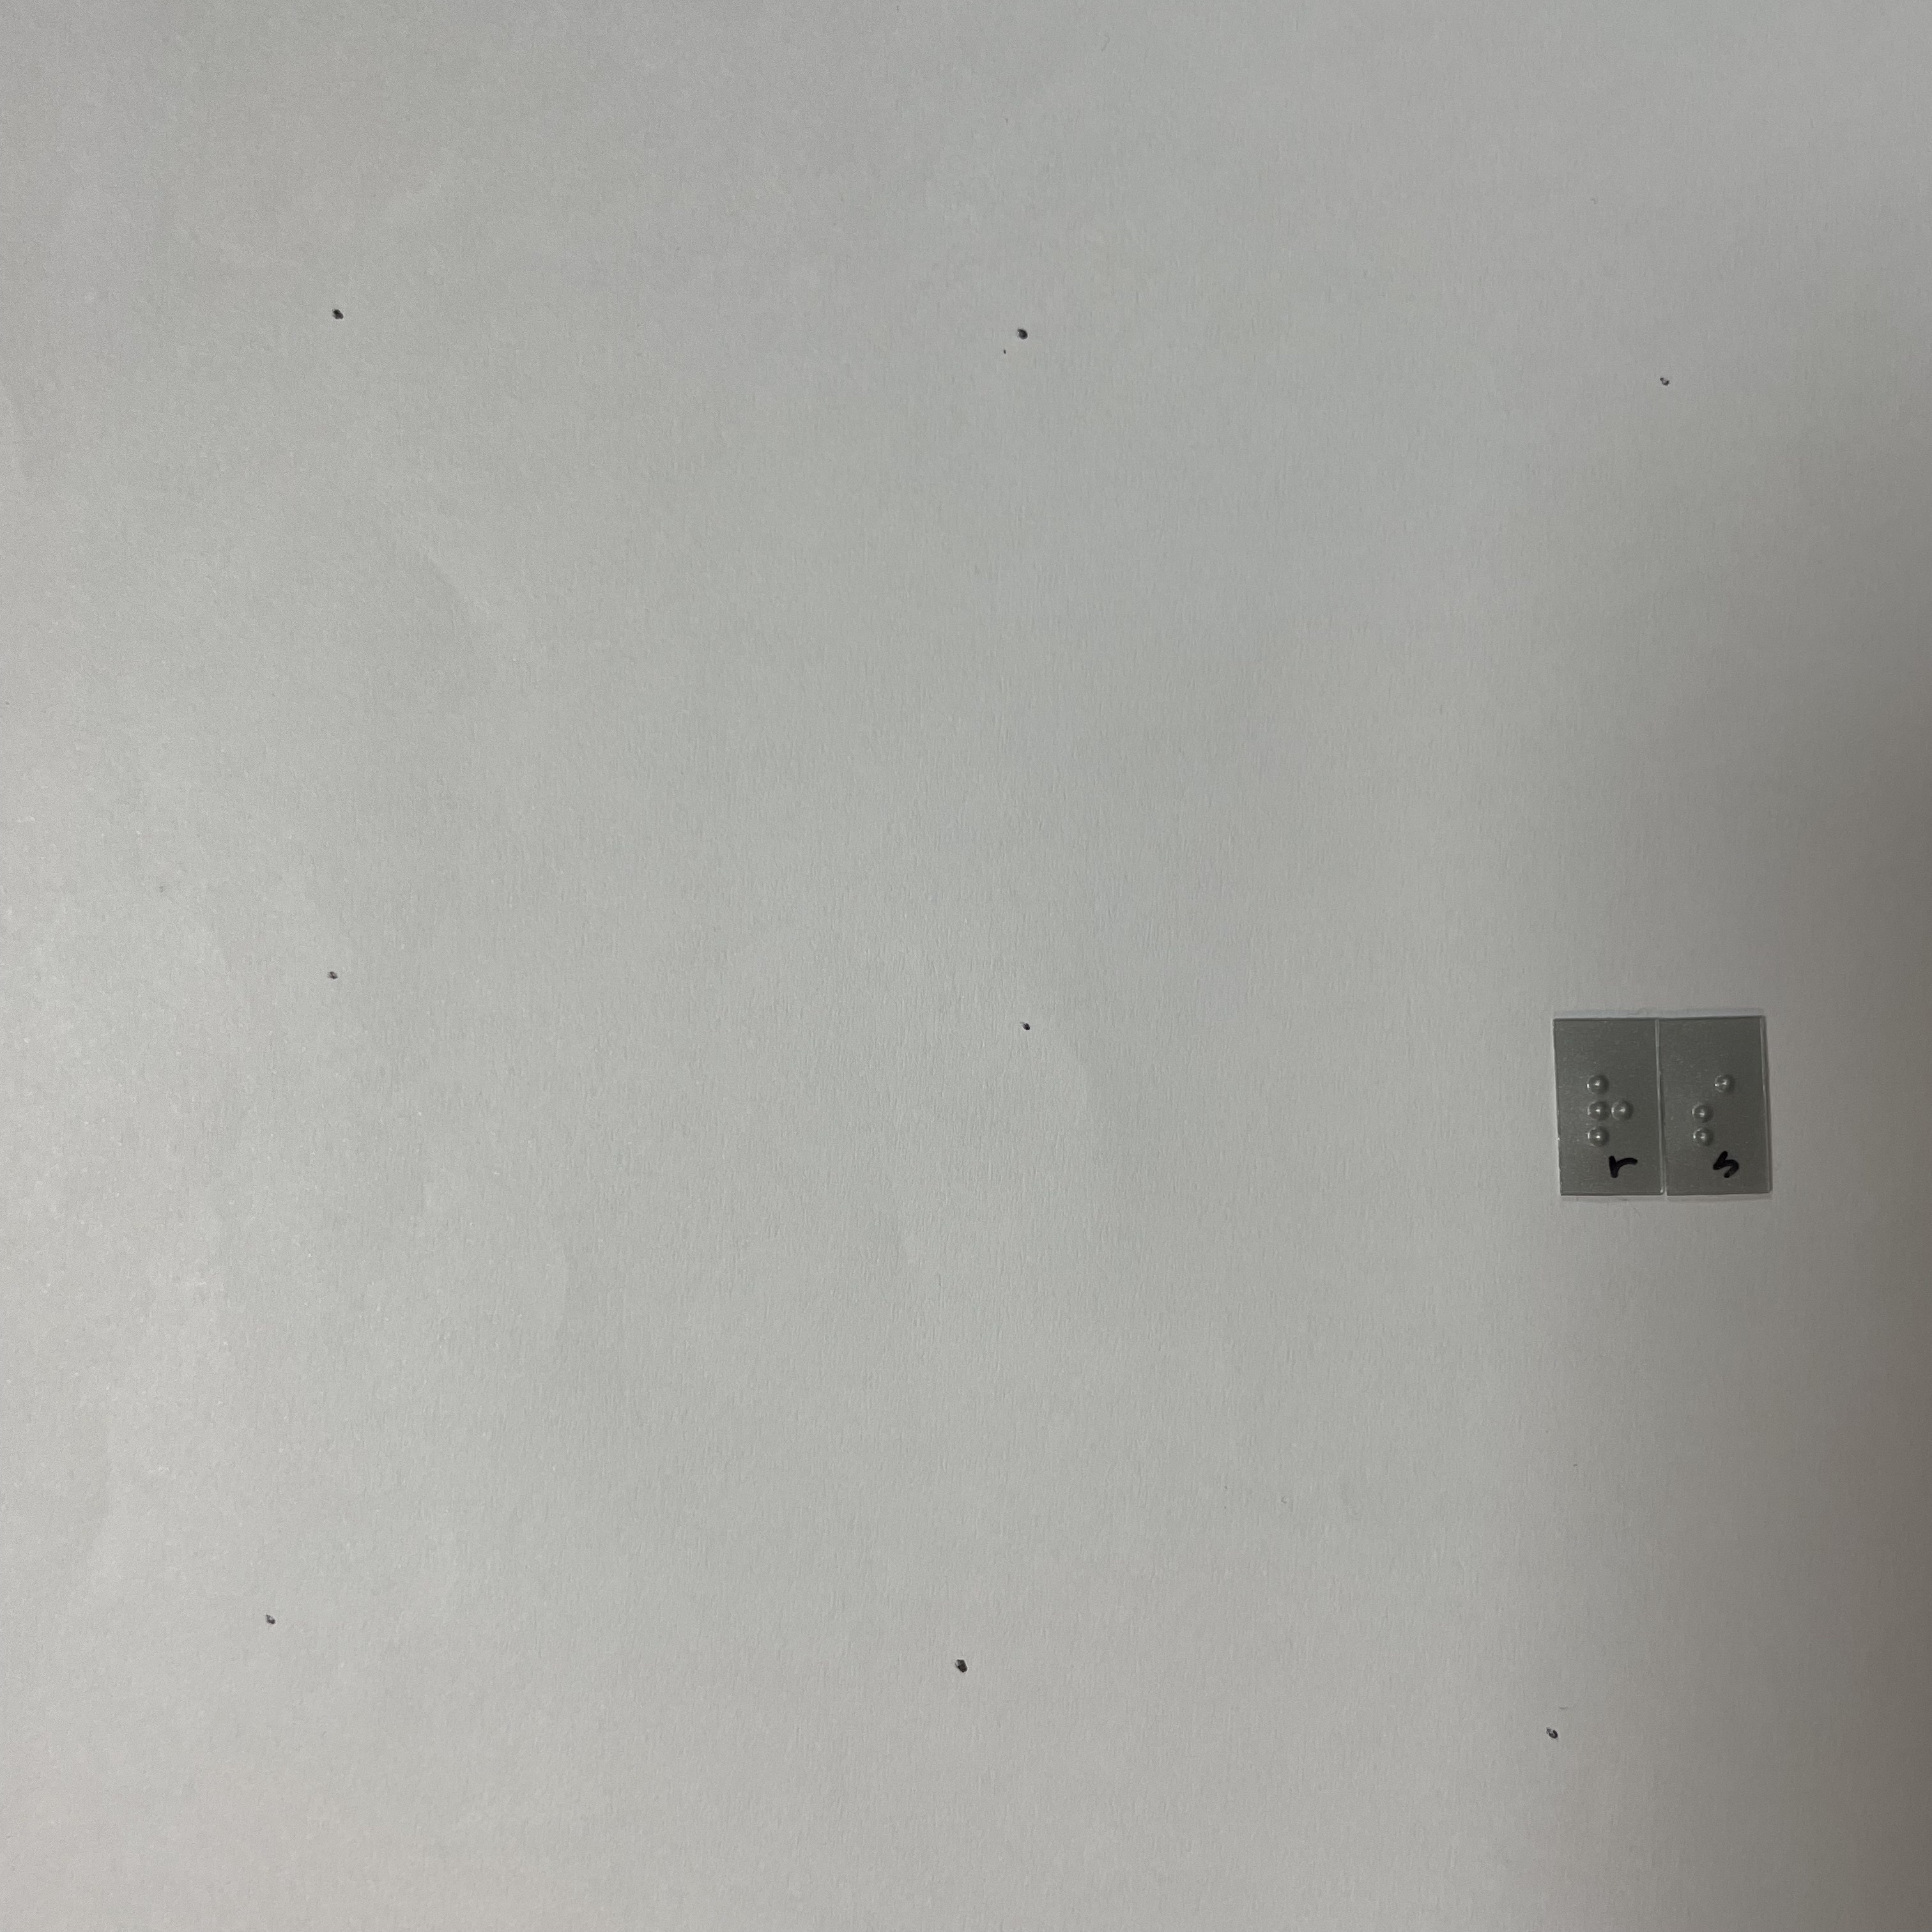r: (1579, 1062, 1643, 1153)
s: (1690, 1069, 1744, 1158)
